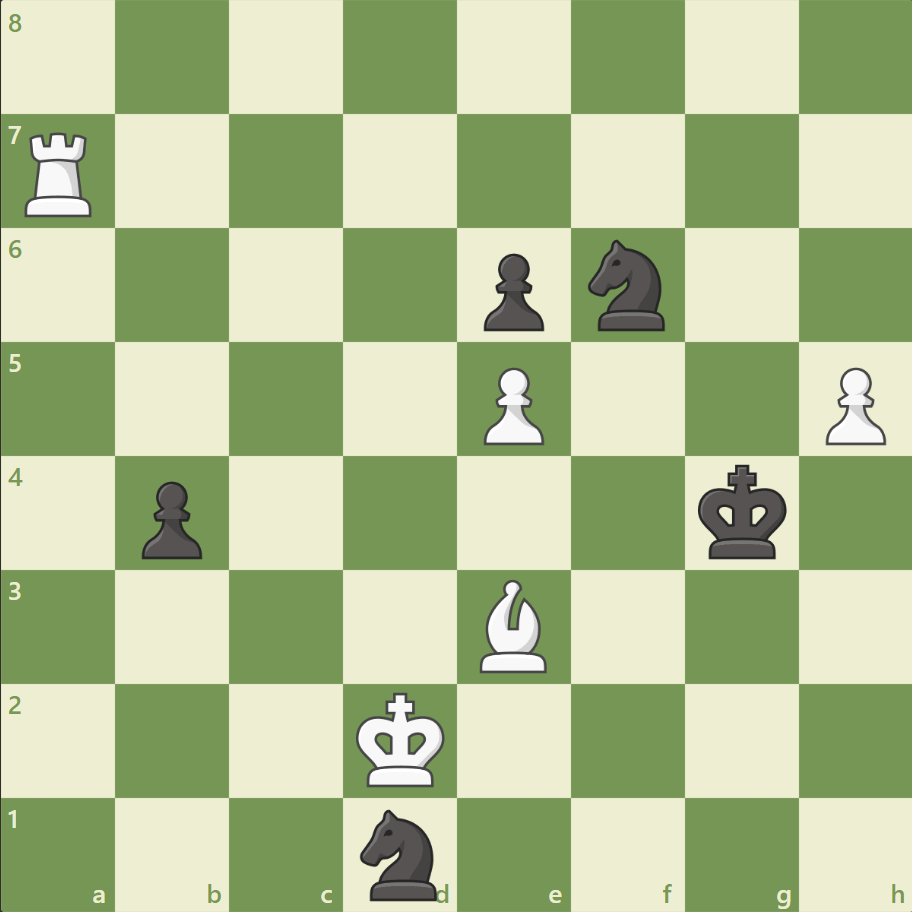B: (471, 574, 555, 676)
K: (351, 685, 451, 793)
P: (474, 359, 549, 450), (815, 359, 889, 450)
R: (19, 125, 102, 222)
k: (692, 458, 792, 566)
n: (351, 802, 449, 904), (579, 234, 676, 337)
p: (474, 246, 549, 337), (133, 473, 208, 564)
